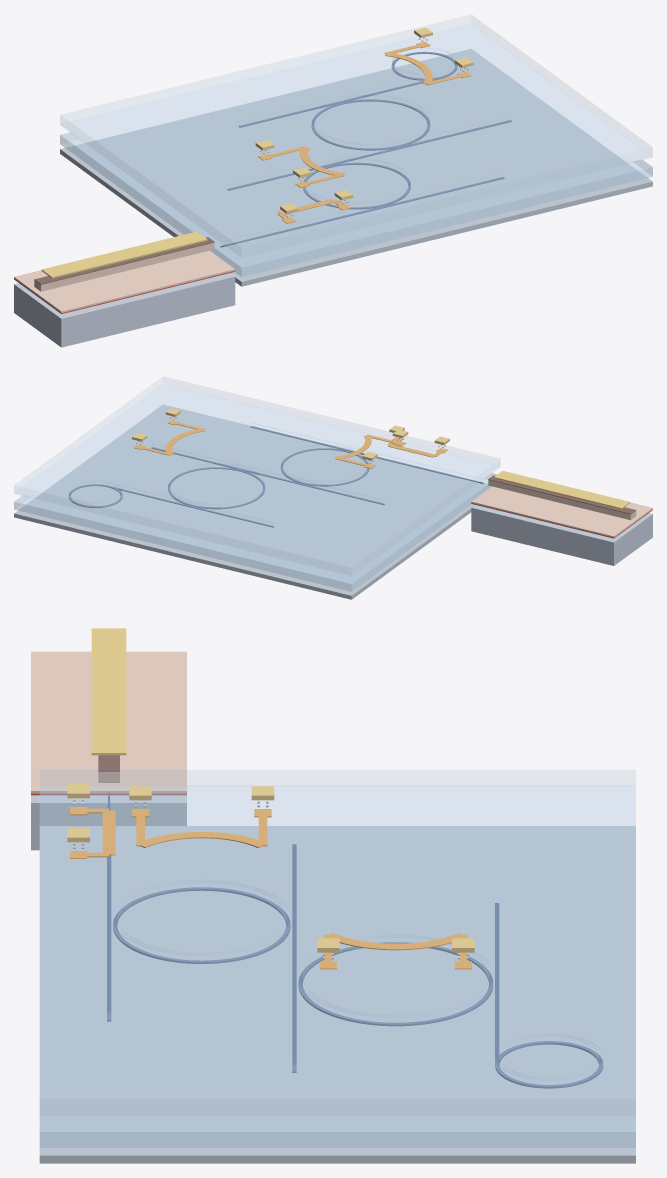
Rendered from stack-ecl-x.glb.
The picture shows the model from 3 angles, top to bottom: view 1: azimuth 30°, elevation 25°; view 2: azimuth 150°, elevation 25°; view 3: azimuth 270°, elevation 25°; orthographic projection. The views are drawn at different scales.
Parts seen in each view (by area): view 1: cladd, sisub, box, inp, pinp, siwg, pmetal, tin18, metal1, cap; view 2: cladd, sisub, box, inp, pinp, siwg, pmetal, tin18, metal1, cap; view 3: cladd, sisub, box, pinp, siwg, pmetal, tin18, inp, metal1.
Boxes of the visible parts, x1,y1,x2,y2 form: cladd: (60, 15, 652, 257); sisub: (60, 49, 652, 286); box: (60, 51, 652, 276); inp: (14, 273, 235, 347); pinp: (14, 242, 235, 312); siwg: (220, 51, 511, 247); pmetal: (41, 231, 207, 278); tin18: (258, 41, 471, 223); metal1: (255, 27, 473, 213); cap: (34, 237, 214, 284); cladd: (14, 377, 500, 575); sisub: (14, 404, 491, 599); box: (14, 450, 497, 591); inp: (471, 505, 652, 565); pinp: (471, 480, 652, 537); siwg: (68, 426, 483, 527); pmetal: (494, 471, 630, 509); tin18: (134, 420, 447, 468); metal1: (132, 408, 449, 460); cap: (488, 475, 636, 514); cladd: (40, 770, 635, 1115); sisub: (39, 826, 635, 1163); box: (39, 838, 635, 1147); pinp: (31, 651, 186, 793); siwg: (107, 793, 603, 1088); pmetal: (91, 628, 126, 755); tin18: (70, 807, 471, 969); inp: (31, 795, 186, 850); metal1: (67, 784, 474, 952).
Bounding box in the file's own units: 130 × 20.8 × 69.8.
